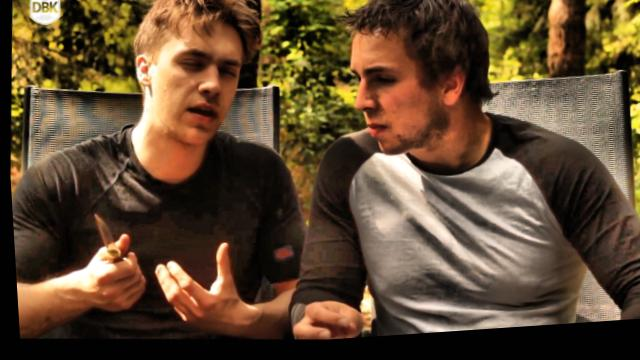knife: (73, 203, 150, 296)
